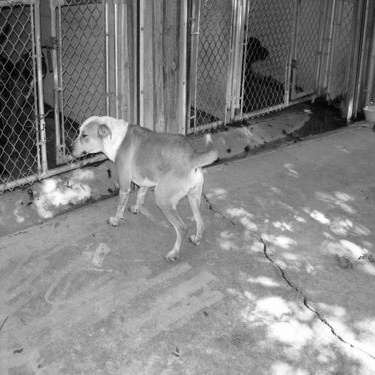dog: (65, 104, 222, 267), (1, 10, 57, 160), (222, 17, 270, 100)
